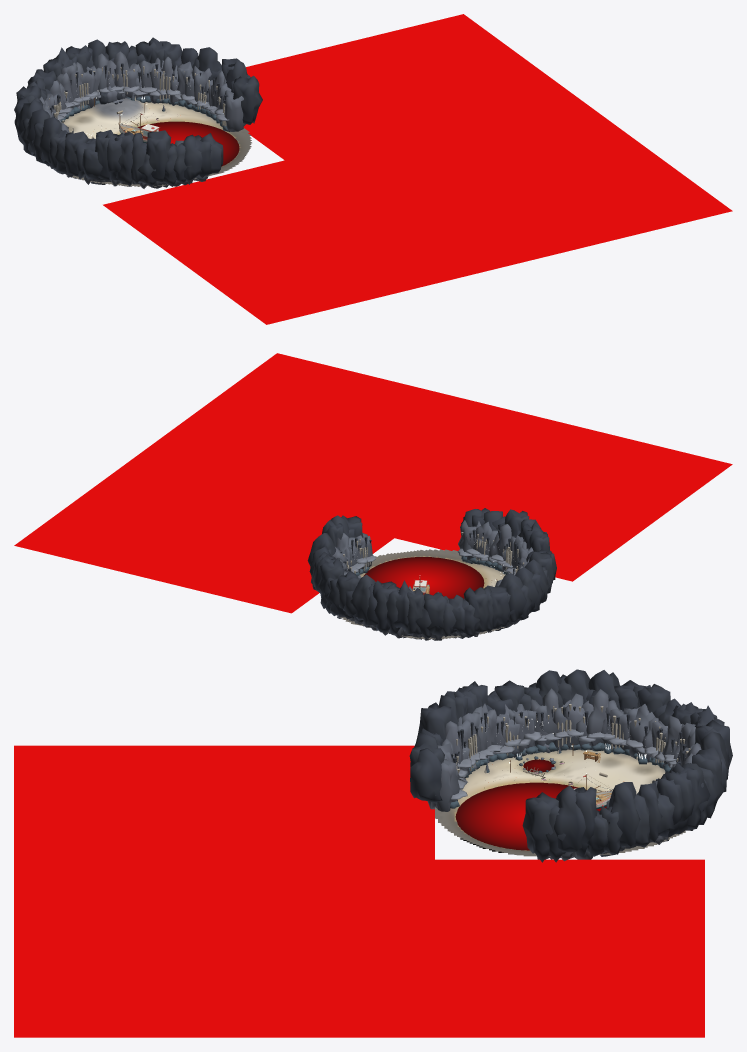
Rendered from cove.glb.
The picture shows the model from 3 angles, top to bottom: view 1: azimuth 30°, elevation 25°; view 2: azimuth 150°, elevation 25°; view 3: azimuth 270°, elevation 25°; orthographic projection. The views are drawn at different scales.
Visible parts, largest first — view 1: Cove_Water, Cove_Static, Cove_Ground; view 2: Cove_Water, Cove_Static, Cove_Ground; view 3: Cove_Water, Cove_Static, Cove_Ground.
Part boxes in pixels (bbox=[...]): Cove_Water: bbox=[103, 14, 732, 324]; Cove_Static: bbox=[14, 37, 262, 188]; Cove_Ground: bbox=[62, 98, 251, 186]; Cove_Water: bbox=[14, 353, 732, 613]; Cove_Static: bbox=[307, 508, 556, 640]; Cove_Ground: bbox=[336, 549, 505, 639]; Cove_Water: bbox=[14, 745, 704, 1037]; Cove_Static: bbox=[409, 669, 732, 862]; Cove_Ground: bbox=[435, 749, 685, 856].
Size of the model in its own units: 90.79 by 12.74 by 90.54.
